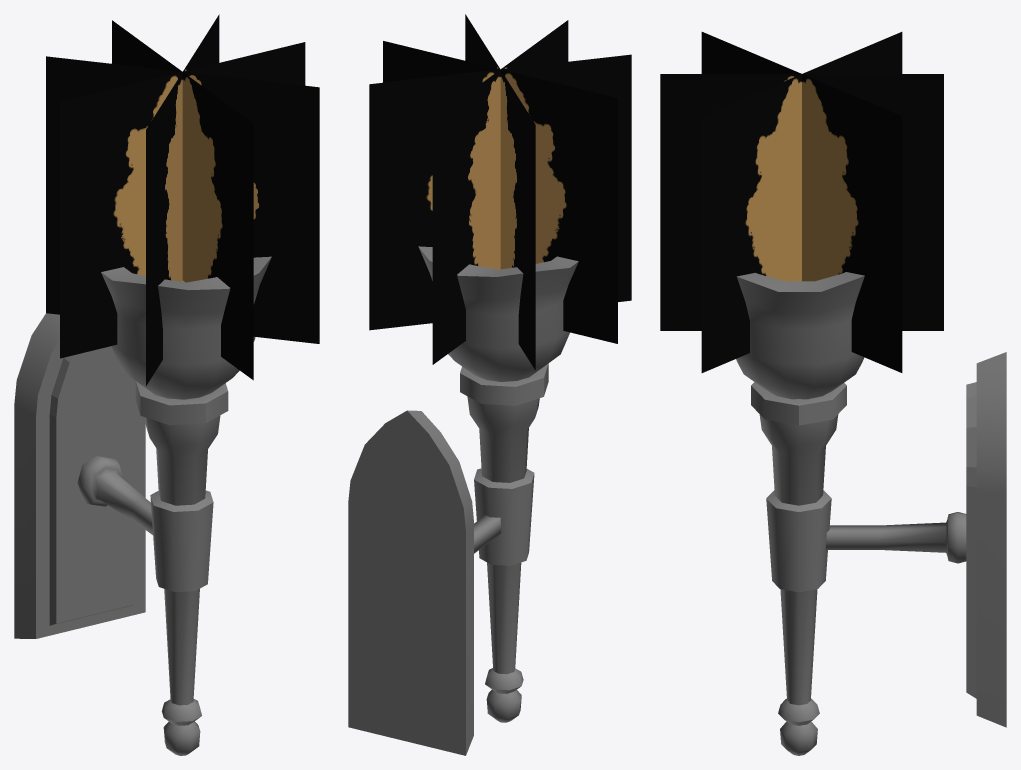
The model's file is SM_torch_wall.fbx.
3 views of the same model, side by side, from view 1: azimuth 30°, elevation 25°; view 2: azimuth 150°, elevation 25°; view 3: azimuth 270°, elevation 25° (orthographic). The views are drawn at different scales.
Parts seen in each view (by area): view 1: Plane096; view 2: Plane096; view 3: Plane096.
Part boxes in pixels (<box>): Plane096: <box>14,14,319,755</box>; Plane096: <box>348,14,631,755</box>; Plane096: <box>660,32,1006,755</box>.
Bounding box in the file's own units: 20.49 × 54.2 × 25.03.
